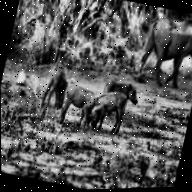boar: (61, 75, 108, 138), (99, 69, 154, 117)
